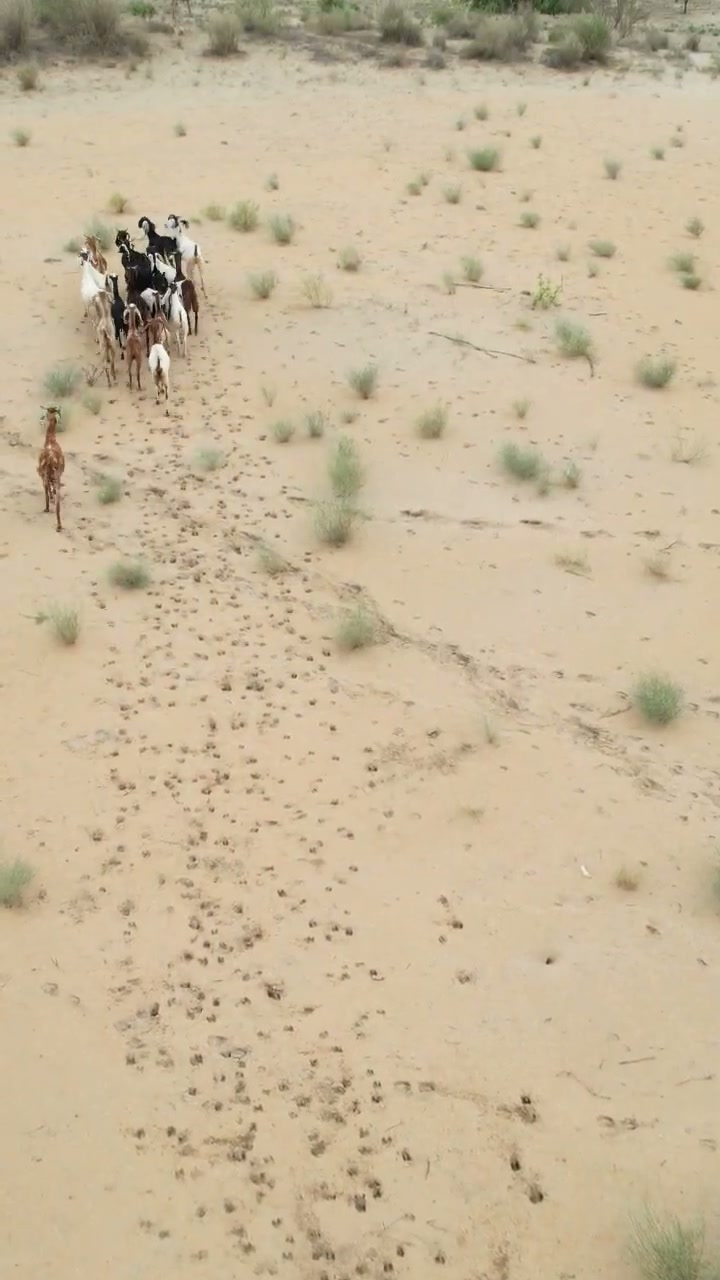animal_foot_print: (82, 371, 424, 1268)
